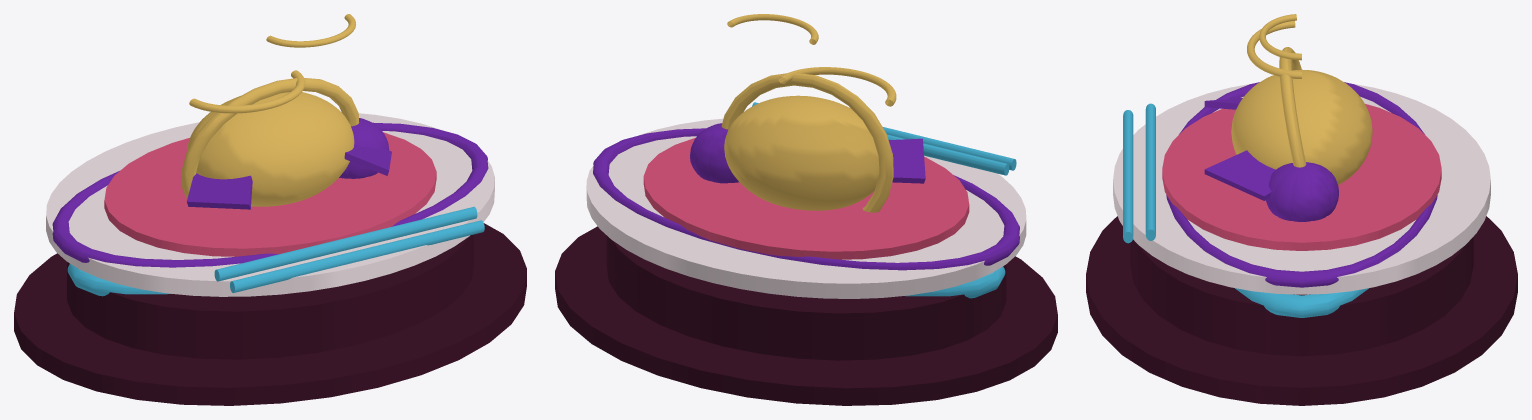
File: 0329_揭秘食物图鉴_卡文迪许香蕉.glb
3 renders of one model, left to right at view 1: azimuth 30°, elevation 25°; view 2: azimuth 150°, elevation 25°; view 3: azimuth 270°, elevation 25°, orthographic. The views are drawn at different scales.
Parts seen in each view (by area): view 1: card_0329; view 2: card_0329; view 3: card_0329.
Boxes of the visible parts, box(x1,y1,x2,y2) form: card_0329: box(14, 14, 526, 405); card_0329: box(555, 14, 1057, 405); card_0329: box(1086, 14, 1517, 405).
Size of the model in its own units: 1.77 by 1 by 1.42.
